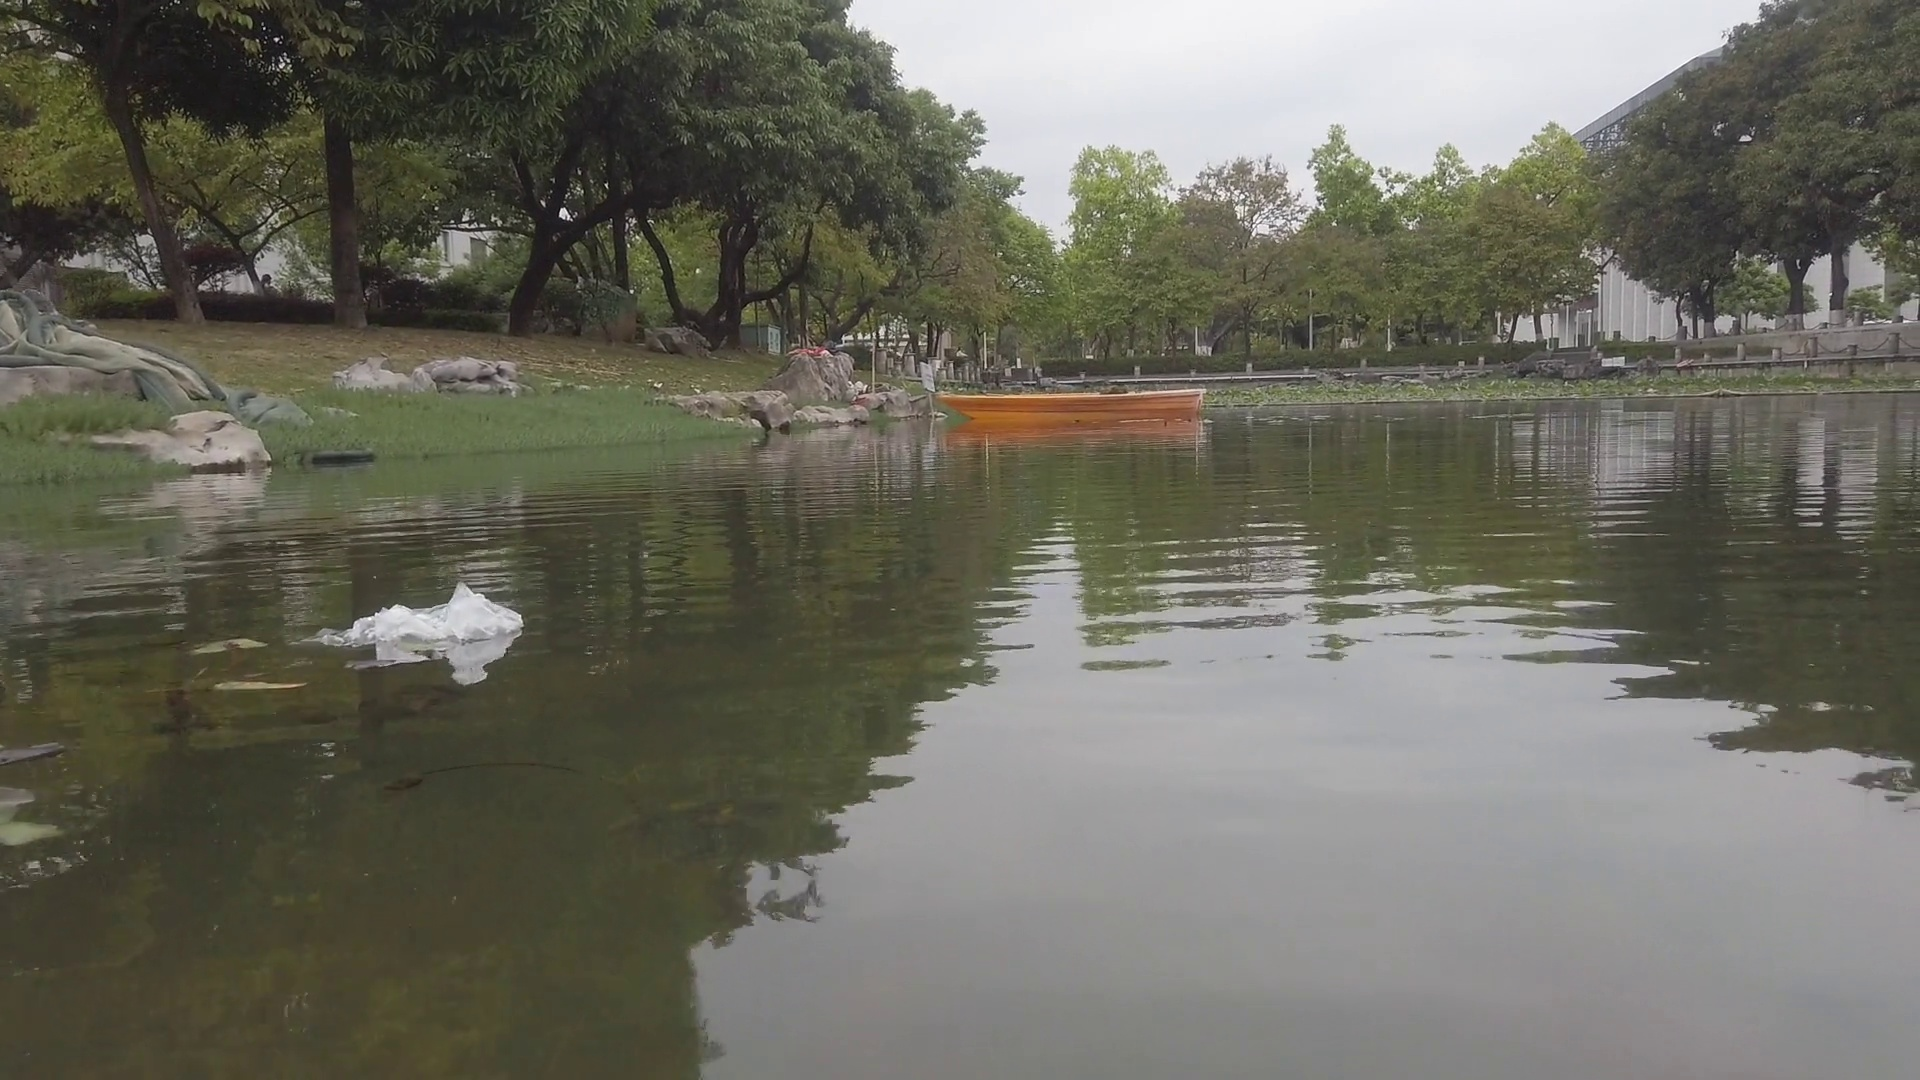plastic: (344, 584, 526, 644)
